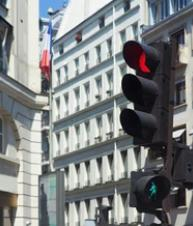red_light: (120, 40, 171, 147)
